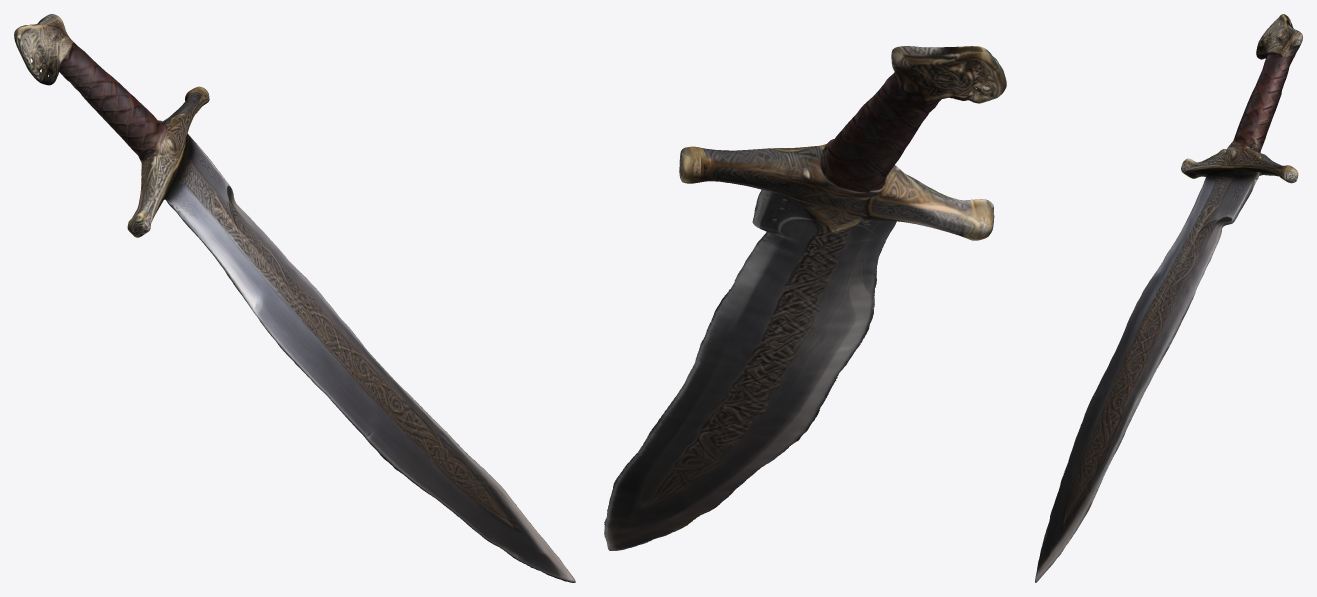
The model's file is _hard_surface_An_ep_1004233857_refine.fbx.
3 views of the same model, side by side, from view 1: azimuth 30°, elevation 25°; view 2: azimuth 150°, elevation 25°; view 3: azimuth 270°, elevation 25° (orthographic). The views are drawn at different scales.
Parts seen in each view (by area): view 1: Mesh_0; view 2: Mesh_0; view 3: Mesh_0.
Boxes of the visible parts, <box> form: Mesh_0: <box>14,14,575,582</box>; Mesh_0: <box>604,46,1006,550</box>; Mesh_0: <box>1035,14,1302,582</box>.
Bounding box in the file's own units: 158 × 200 × 116.
Materials: 1 (1 with a texture image).
